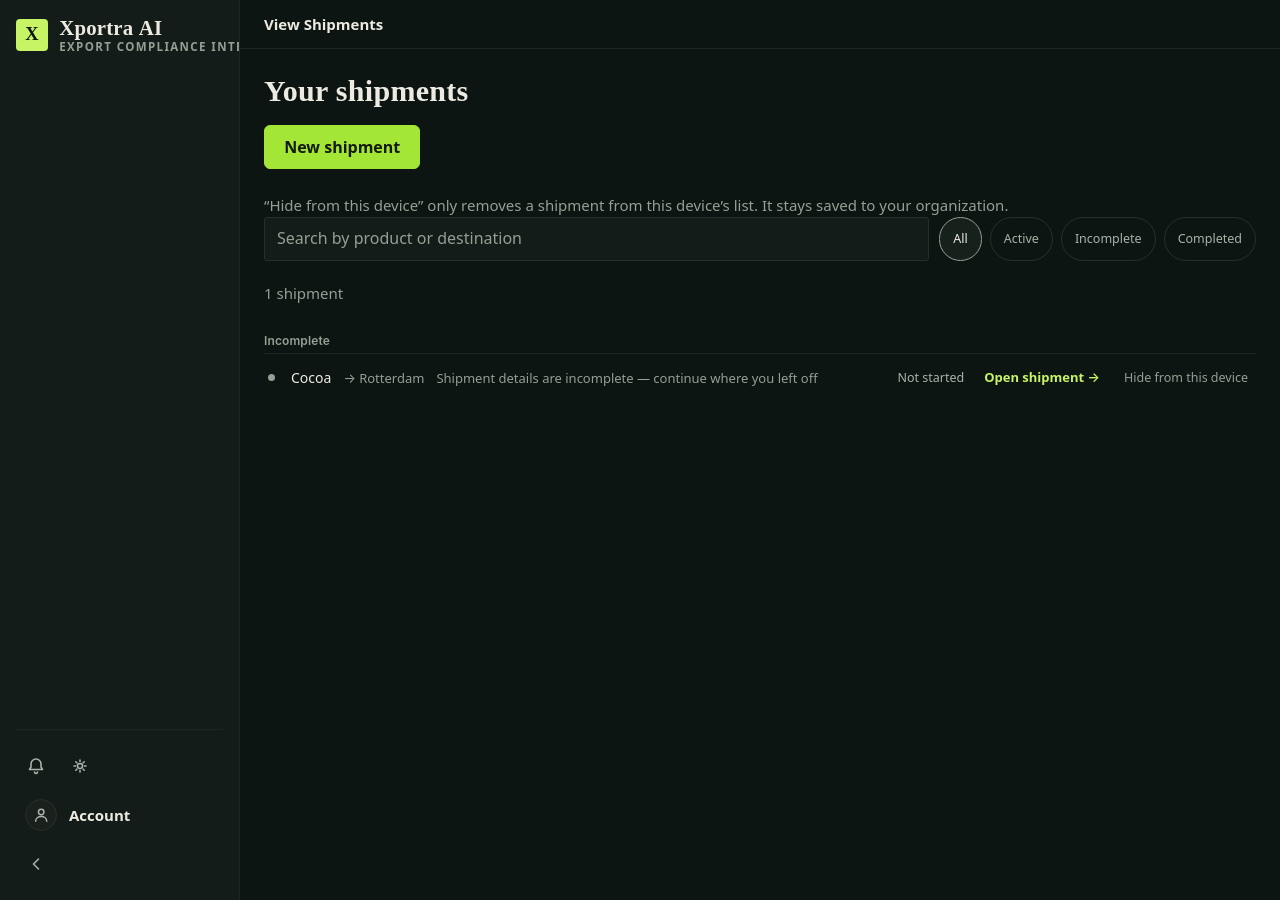
Test: ShipmentsPage archive › forgets a shipment without touching the backend
The width and height of the screenshot is (1280, 900).
Expected: the text "only removes a shipment from this device’s list" is shown, [264,195,1008,215]
Step 1. Click the button with aria-label "Hide Cocoa · Lagos → Rotterdam from this device" → [1186, 378], box [1120,356,1252,400]
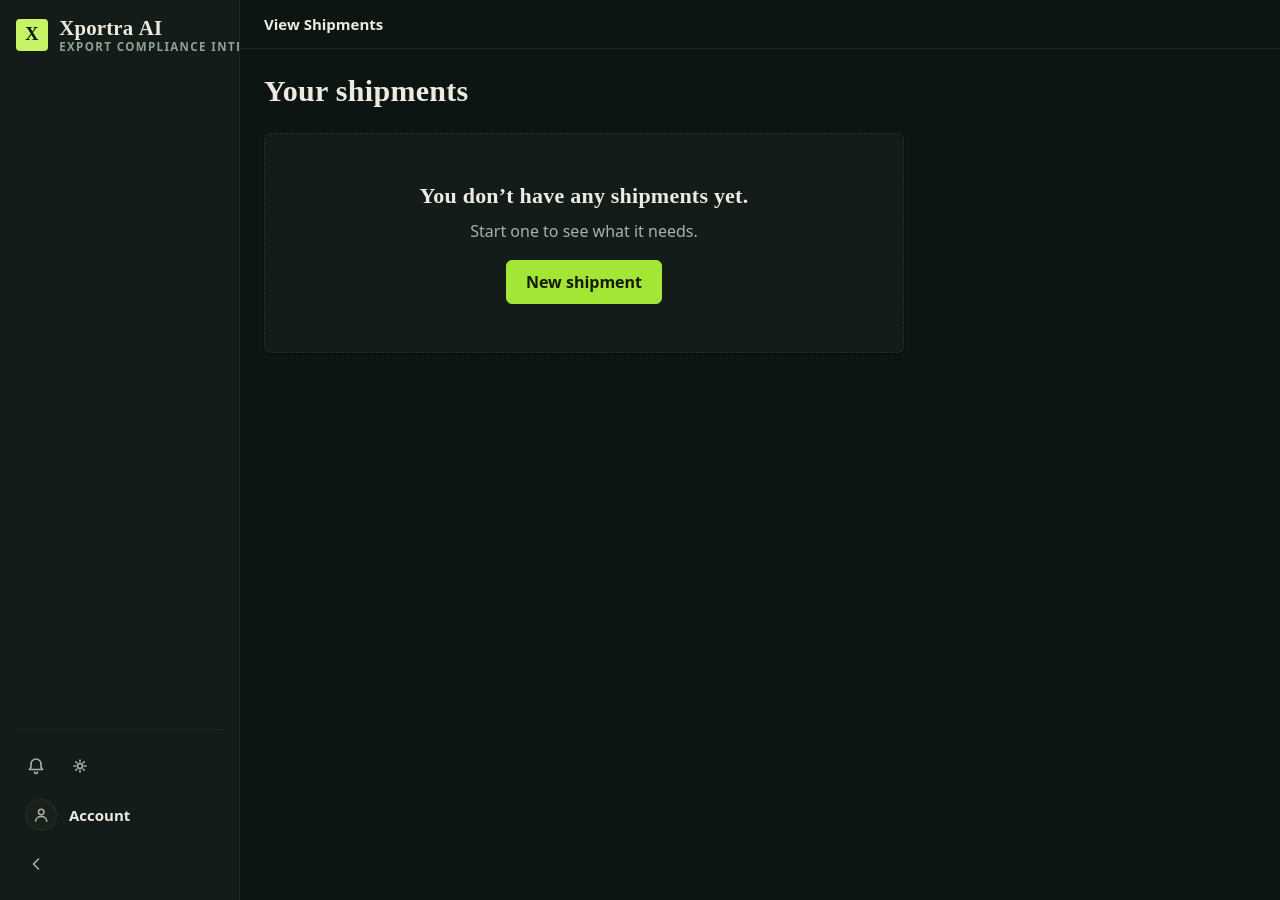
Expected: the heading "You don’t have any shipments yet." is shown, [420,183,748,208]
